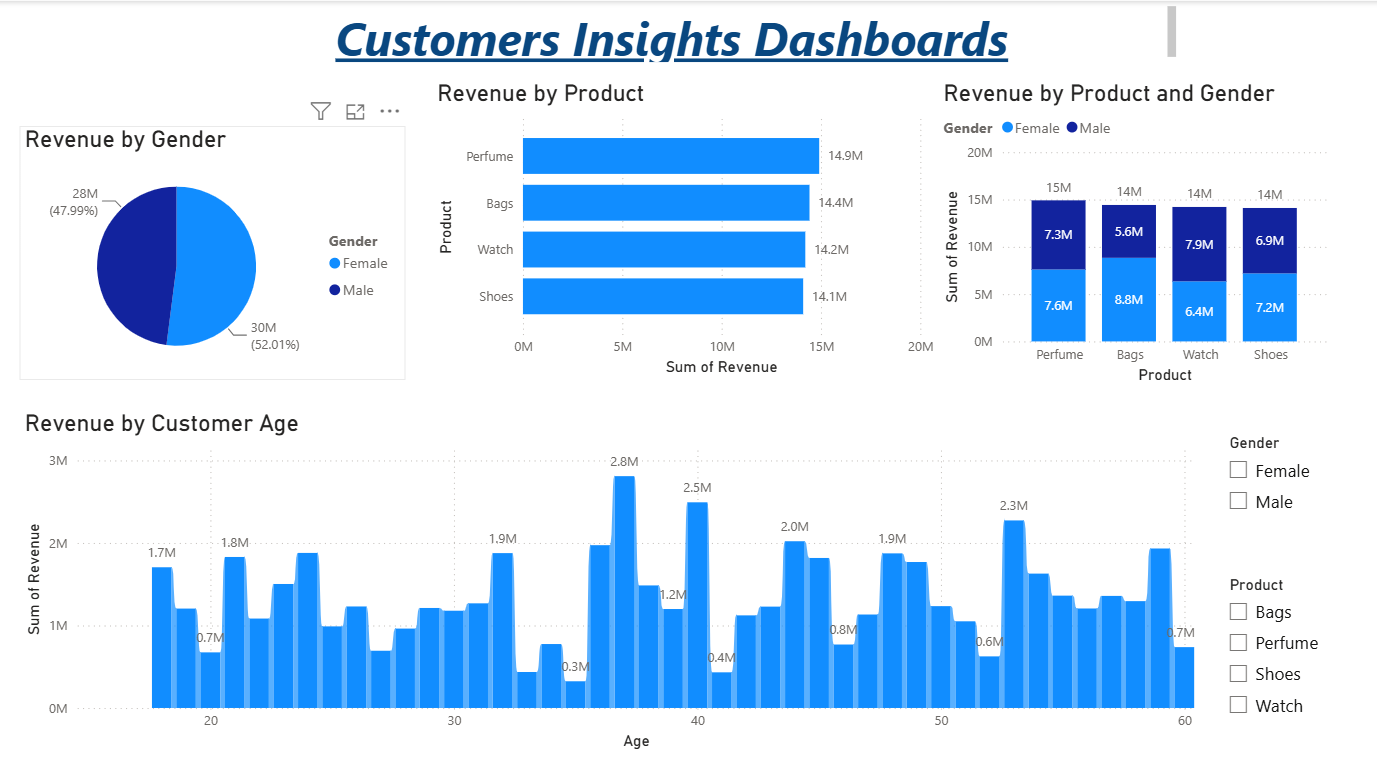

Layout of this report page (visuals, bound fields, positions):
{"tool":"powerbi","page":{"name":"customers insights ","canvas":[1280,720],"ordinal":2},"visuals":[{"type":"pieChart","title":" Revenue by Gender","fields":{"Category":["dim_gender.Gender"],"Y":["Sum(Fact_Marketing.Revenue)"]},"box":[21.4,115.7,358.6,237.1],"z":0},{"type":"columnChart","title":"Revenue by Customer Age","fields":{"Category":["Fact_Marketing.Age"],"Y":["Sum(Fact_Marketing.Revenue)"]},"box":[21.4,380,1098.6,321.4],"z":1000},{"type":"clusteredBarChart","title":" Revenue by Product","fields":{"Category":["dim_product.Product"],"Y":["Sum(Fact_Marketing.Revenue)"]},"box":[404.3,72.9,471.4,280],"z":2000},{"type":"columnChart","title":" Revenue by Product and Gender","fields":{"Category":["dim_product.Product"],"Series":["dim_gender.Gender"],"Y":["Sum(Fact_Marketing.Revenue)"]},"box":[875.7,72.9,367.1,287.1],"z":3000},{"type":"textbox","box":[161.4,0,940,61.4],"z":4000},{"type":"slicer","fields":{"Values":["dim_gender.Gender"]},"box":[1134.3,397.1,125.7,88.6],"z":5000},{"type":"slicer","fields":{"Values":["dim_product.Product"]},"box":[1134.3,528.6,125.7,161.4],"z":6000}]}

Visuals, with their boxes in screenshot pixels (x1, y1, x2, y2), scaled from the page's 1280x720 canvas onto the 1377x772 screenshot:
" Revenue by Gender" pieChart: pyautogui.locateOnScreen(23, 124, 409, 378)
"Revenue by Customer Age" columnChart: pyautogui.locateOnScreen(23, 407, 1205, 752)
" Revenue by Product" clusteredBarChart: pyautogui.locateOnScreen(435, 78, 942, 378)
" Revenue by Product and Gender" columnChart: pyautogui.locateOnScreen(942, 78, 1337, 386)
textbox: pyautogui.locateOnScreen(174, 0, 1185, 66)
slicer - dim_gender.Gender: pyautogui.locateOnScreen(1220, 426, 1355, 521)
slicer - dim_product.Product: pyautogui.locateOnScreen(1220, 567, 1355, 740)
